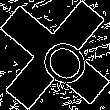O_NW: (21, 22, 89, 88)
